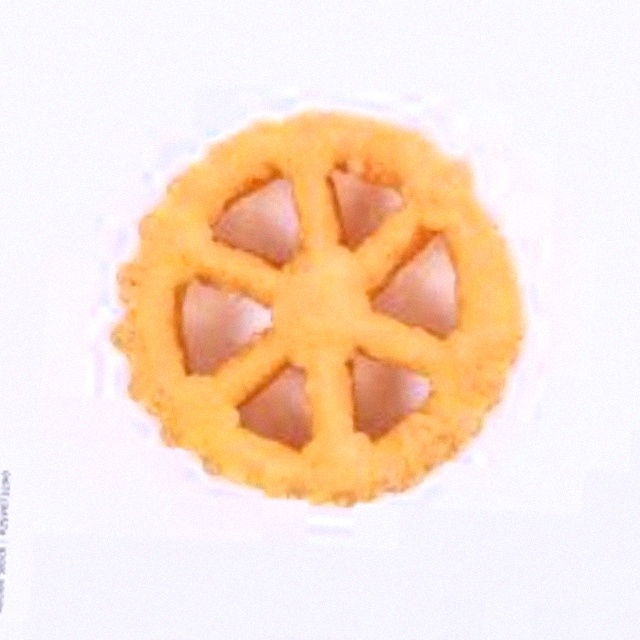Kokis: (116, 91, 524, 549)
